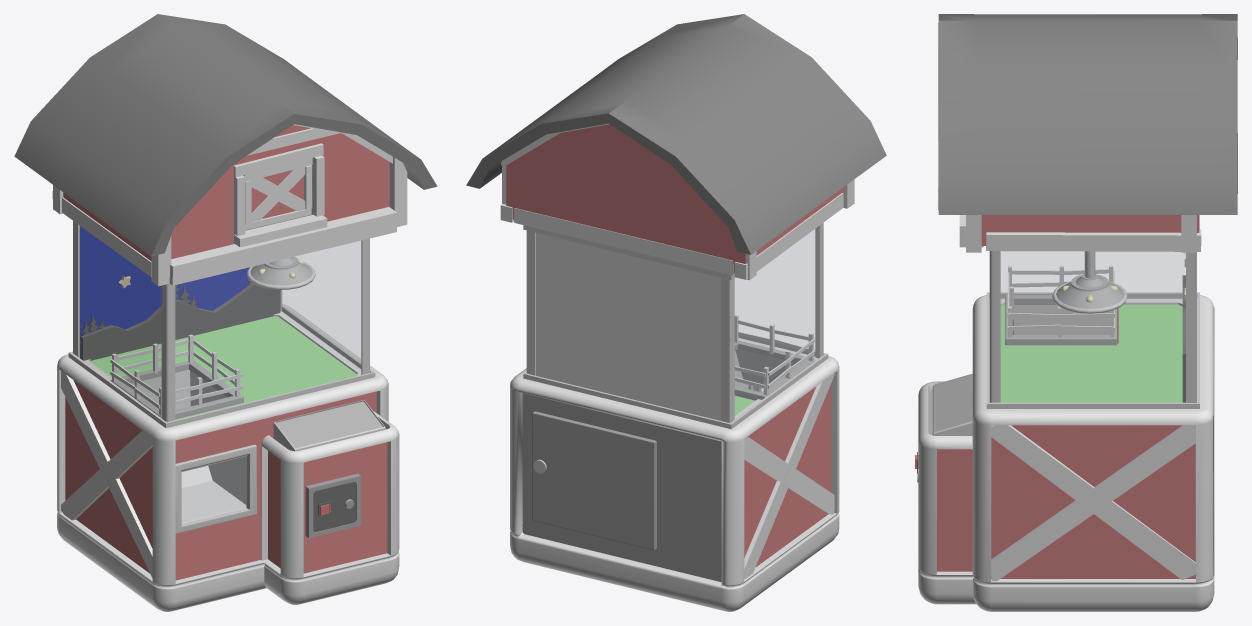
File: BarnMachine.fbx
3 renders of one model, left to right at view 1: azimuth 30°, elevation 25°; view 2: azimuth 150°, elevation 25°; view 3: azimuth 270°, elevation 25°, orthographic. The views are drawn at different scales.
Visible parts, largest first — view 1: BarnMachineBody, BarnLoftDoor, Flippy_Door, UFO_GRabber; view 2: BarnMachineBody; view 3: BarnMachineBody, UFO_GRabber.
Part boxes in pixels (x1,y1,x2,y2): BarnMachineBody: (14,14,437,611); BarnLoftDoor: (243,158,312,230); Flippy_Door: (181,454,247,522); UFO_GRabber: (247,256,315,289); BarnMachineBody: (466,14,886,611); BarnMachineBody: (915,14,1237,611); UFO_GRabber: (1052,251,1127,313).
Size of the model in its own units: 166 by 270 by 148.
